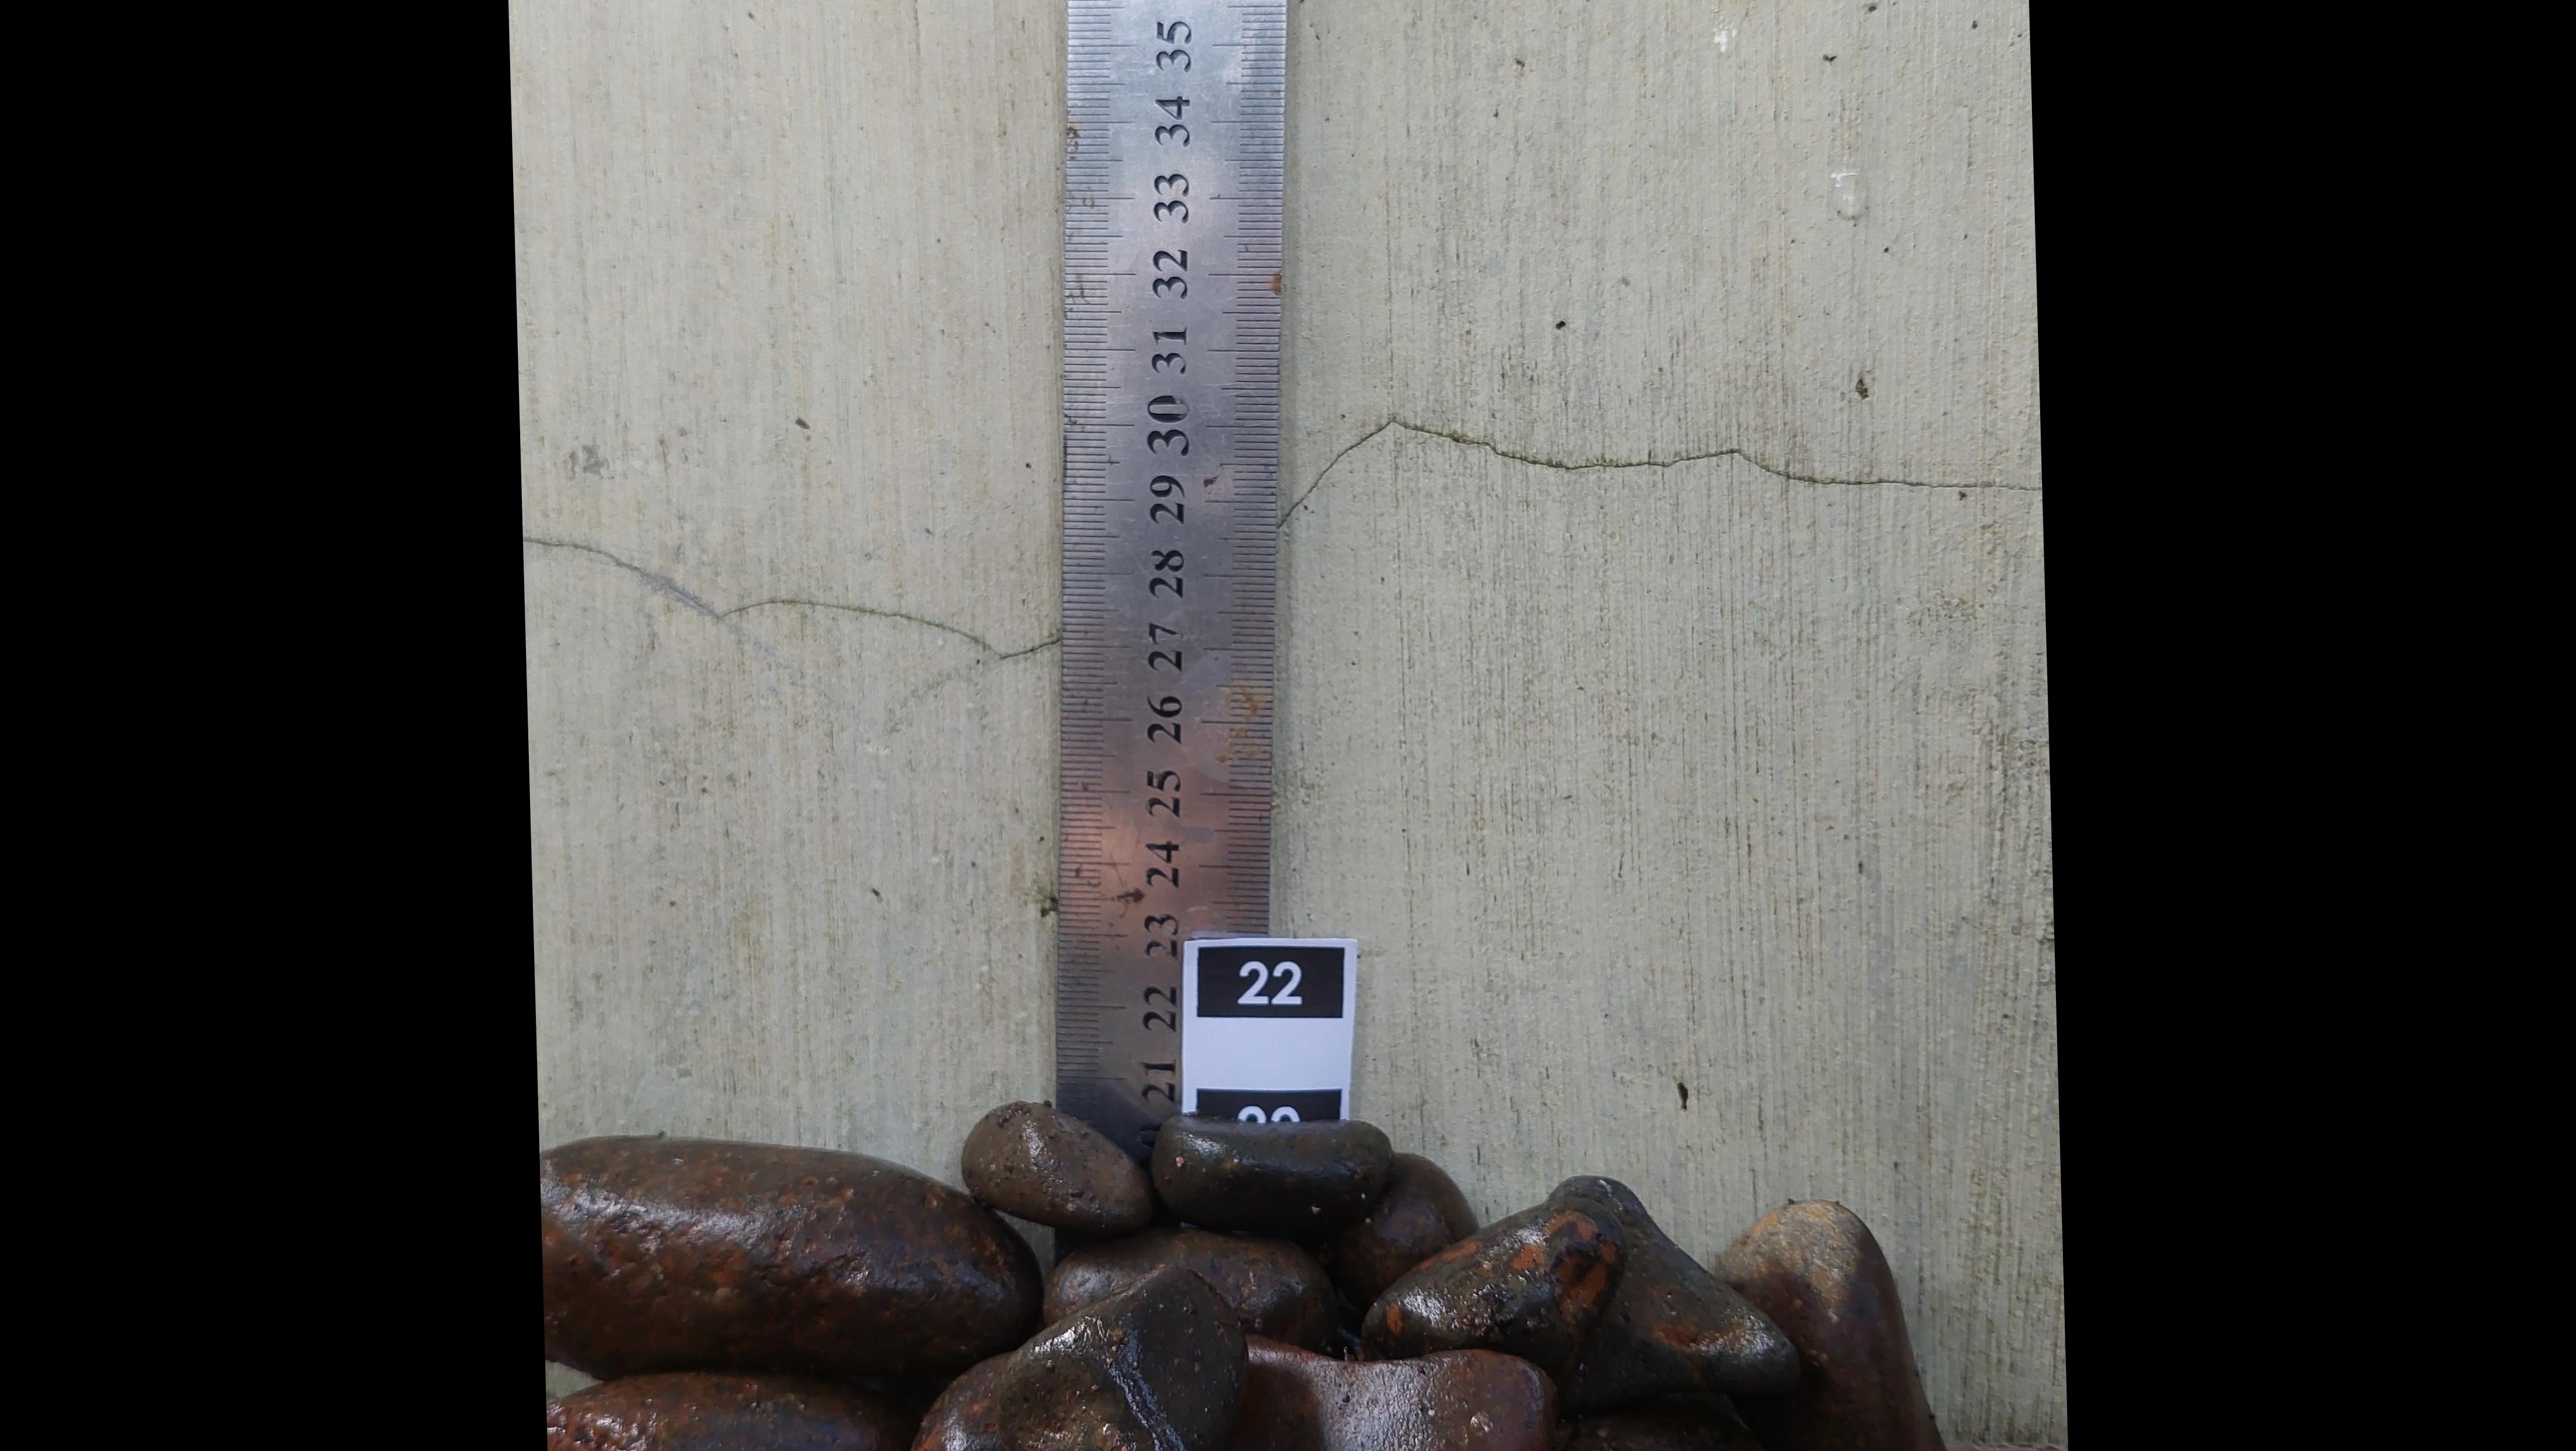kotak_2x1: (1196, 943, 1346, 1017)
